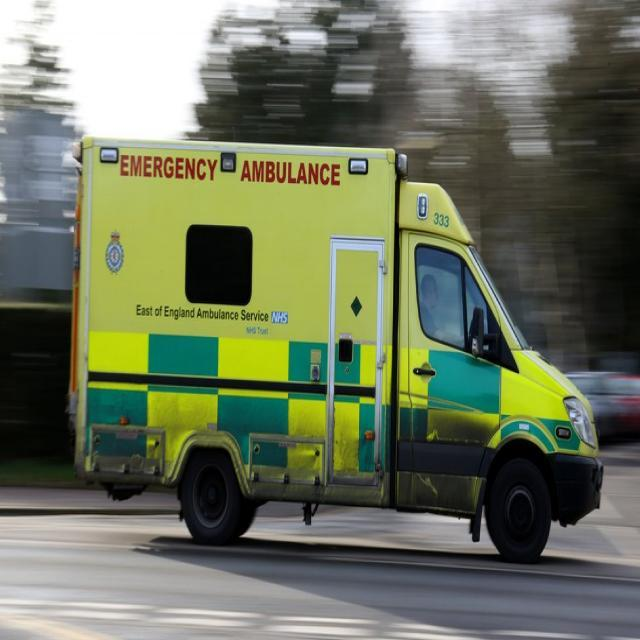emergency-vehicle: (53, 80, 606, 566)
